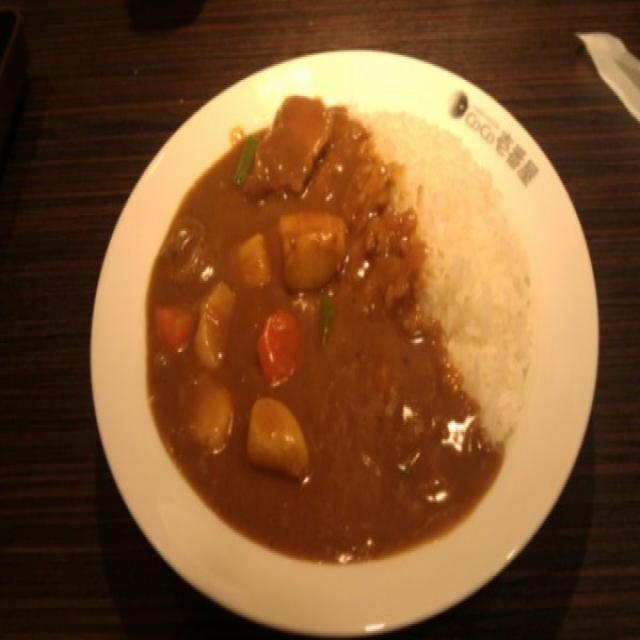牛肉菜式: (88, 43, 606, 638)
